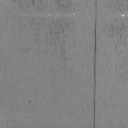surface scratch: (93, 17, 98, 128), (94, 0, 98, 15)
